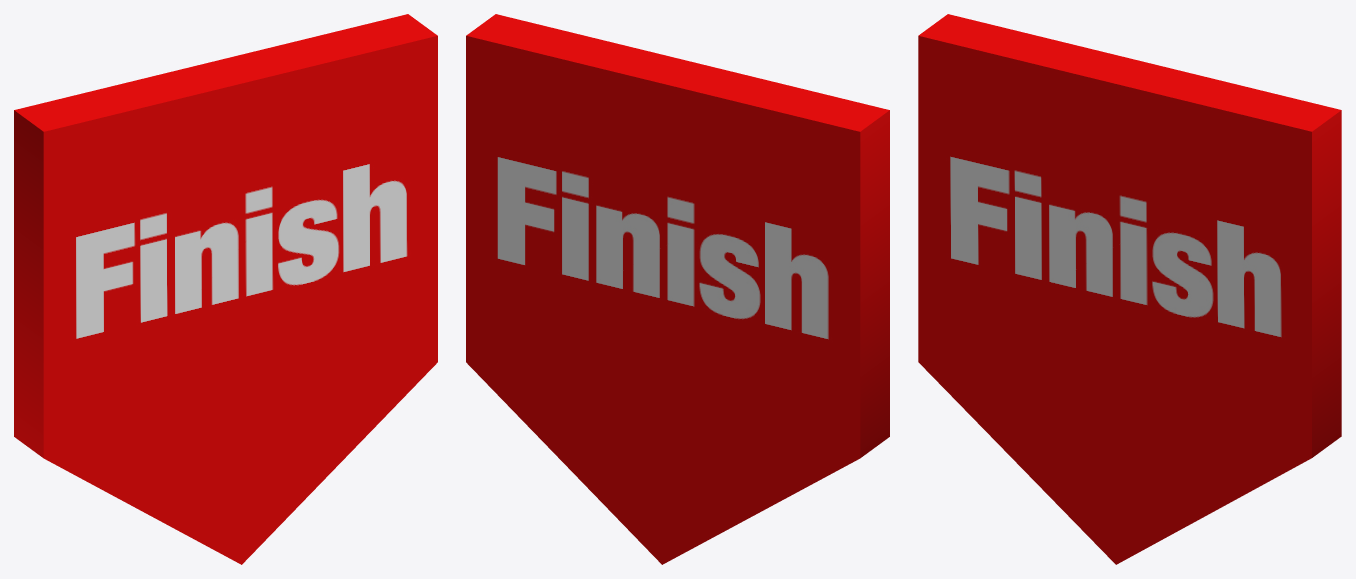
File: finish marker.fbx
3 views of the same model, side by side, from view 1: azimuth 30°, elevation 25°; view 2: azimuth 150°, elevation 25°; view 3: azimuth 330°, elevation 25° (orthographic).
Parts seen in each view (by area): view 1: pCube1; view 2: pCube1; view 3: pCube1.
Boxes of the visible parts, x1=… form: pCube1: x1=14, y1=14, x2=437, y2=564; pCube1: x1=466, y1=14, x2=889, y2=564; pCube1: x1=918, y1=14, x2=1341, y2=564.
Size of the model in its own units: 3.96 by 4.62 by 0.5166.
Materials: 1 (1 with a texture image).
